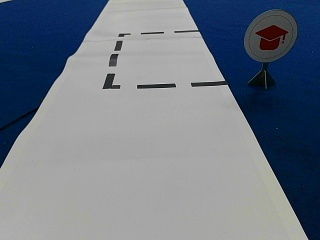school: (245, 10, 297, 61)
